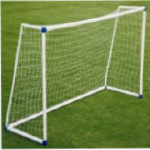goals: (5, 4, 148, 146)
